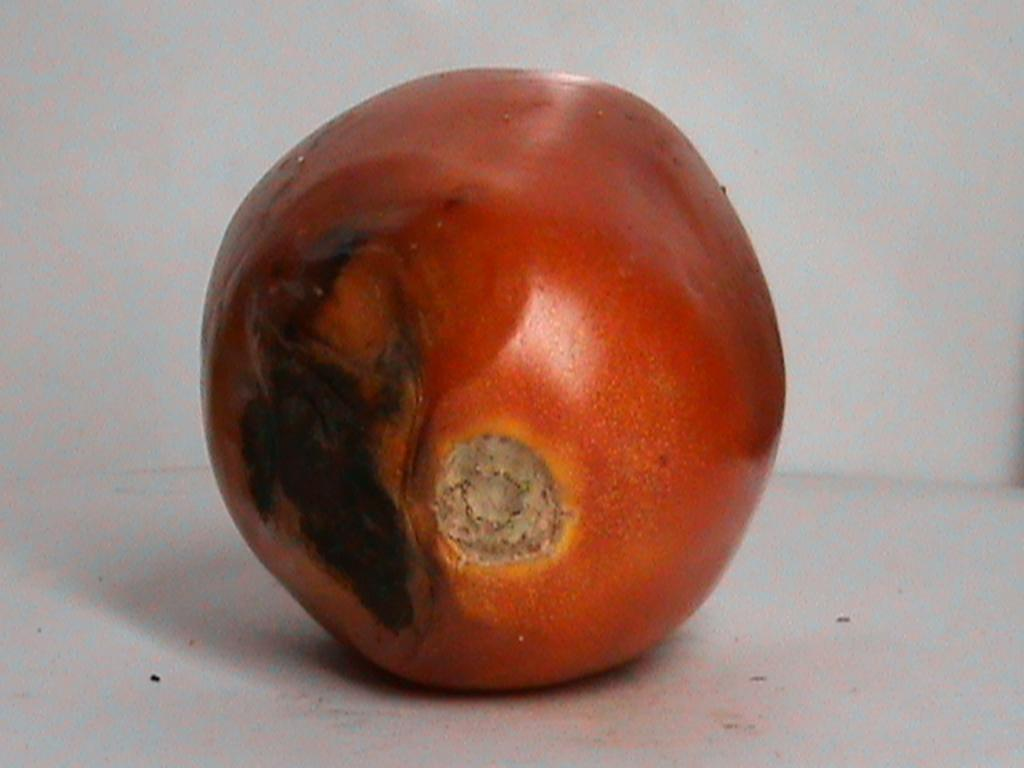rot_mold_decay: (237, 230, 418, 637)
tomato: (203, 70, 784, 685)
